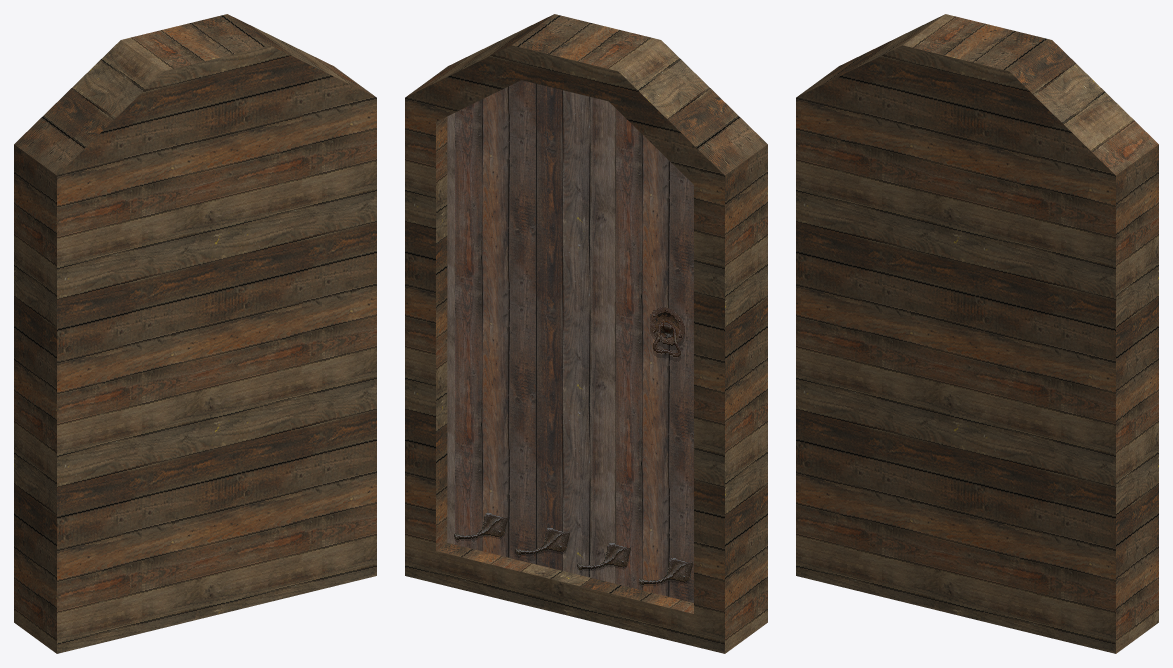
Rendered from door-1.glb.
3 renders of one model, left to right at view 1: azimuth 30°, elevation 25°; view 2: azimuth 150°, elevation 25°; view 3: azimuth 330°, elevation 25°, orthographic.
Visible parts, largest first — view 1: Door_1; view 2: Door_1; view 3: Door_1.
Part boxes in pixels (x1,y1,x2,y2): Door_1: (14,14,376,653); Door_1: (405,14,767,653); Door_1: (796,14,1158,653).
Size of the model in its own units: 1.11 by 1.85 by 0.2583.
Materials: 1 (1 with a texture image).
